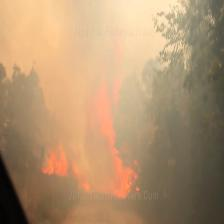fire: (15, 68, 153, 202)
